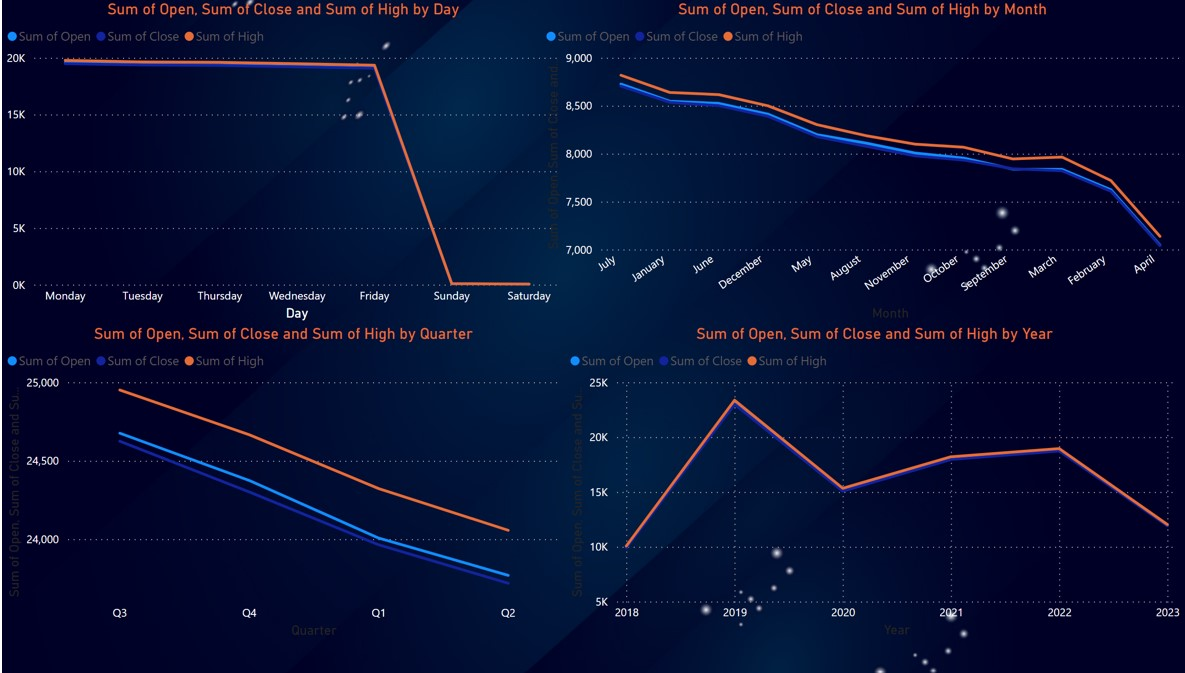

This screenshot's page, from the dashboard's own definition file:
{"tool":"powerbi","page":{"name":"Page 2","canvas":[1280,720],"ordinal":1},"visuals":[{"type":"lineChart","fields":{"Category":["Indian Oil Data1.Day"],"Y":["Sum(Indian Oil Data1.Open)","Sum(Indian Oil Data1.Close)","Sum(Indian Oil Data1.High)"]},"box":[0,0,608.7,351.3],"z":0},{"type":"lineChart","fields":{"Category":["Indian Oil Data1.Month"],"Y":["Sum(Indian Oil Data1.Open)","Sum(Indian Oil Data1.Close)","Sum(Indian Oil Data1.High)"]},"box":[583.3,0,696.2,351.3],"z":1},{"type":"lineChart","fields":{"Category":["Indian Oil Data1.Quarter"],"Y":["Sum(Indian Oil Data1.Open)","Sum(Indian Oil Data1.Close)","Sum(Indian Oil Data1.High)"]},"box":[0,351.3,608.7,343.3],"z":2},{"type":"lineChart","fields":{"Y":["Sum(Indian Oil Data1.Open)","Sum(Indian Oil Data1.Close)","Sum(Indian Oil Data1.High)"],"Category":["Indian Oil Data1.Year"]},"box":[609,351,670,343],"z":3}]}

Visuals, with their boxes in screenshot pixels (x1, y1, x2, y2), scaled from the page's 1280x720 canvas onto the 1185x673 screenshot:
lineChart - Indian Oil Data1.Day x Sum(Indian Oil Data1.Open): 0, 0, 564, 328
lineChart - Indian Oil Data1.Month x Sum(Indian Oil Data1.Open): 540, 0, 1184, 328
lineChart - Indian Oil Data1.Quarter x Sum(Indian Oil Data1.Open): 0, 328, 564, 649
lineChart - Sum(Indian Oil Data1.Open) x Sum(Indian Oil Data1.Close): 564, 328, 1184, 649
